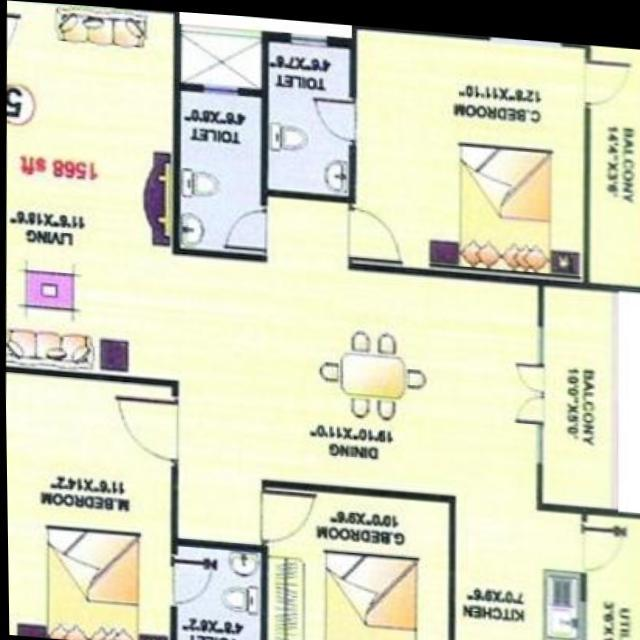Balcony-Sitout: (540, 278, 616, 500), (589, 36, 640, 276)
Bedroom: (261, 482, 446, 640)
Bedroom with Toilet: (263, 19, 587, 276), (4, 368, 262, 640)
Dining: (316, 312, 431, 420)
Enterance-Foyer: (5, 9, 23, 84)
Kitchen: (454, 496, 578, 640)
Living: (4, 0, 170, 378)
Toilet: (176, 86, 261, 251), (268, 35, 349, 189), (172, 541, 257, 640)
Utility: (583, 505, 640, 640)
